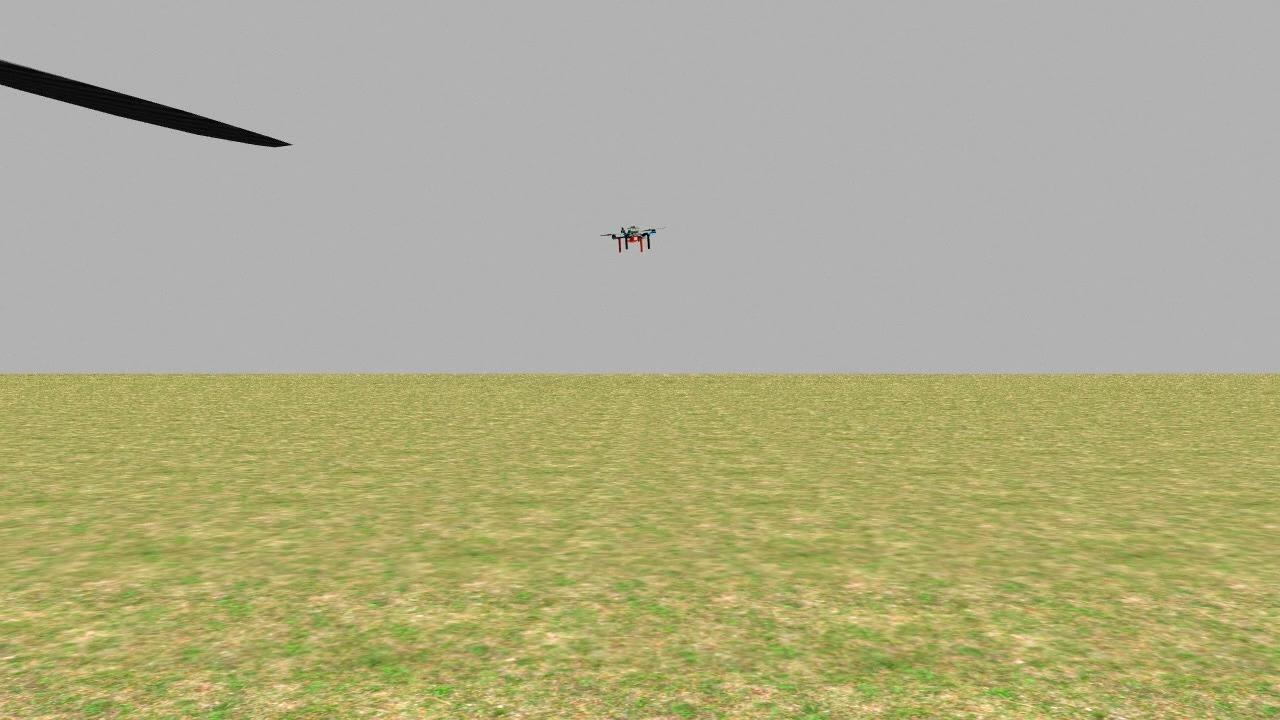UAV: (601, 214, 666, 262)
